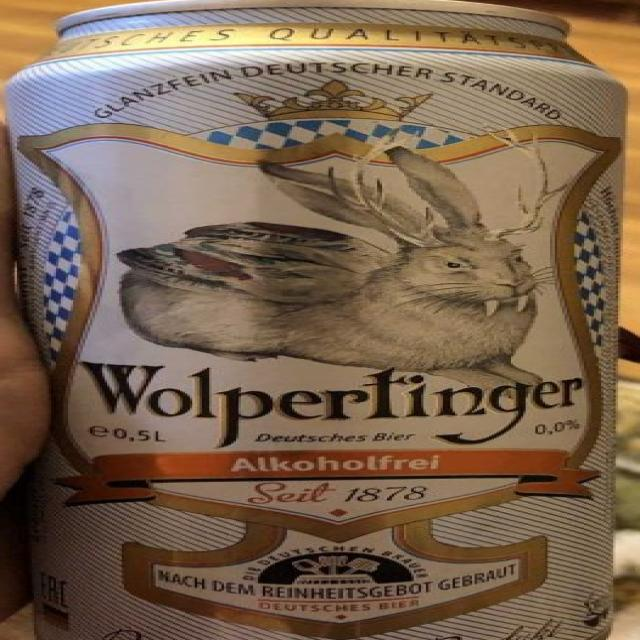Wolpertinger: (2, 1, 640, 640)
